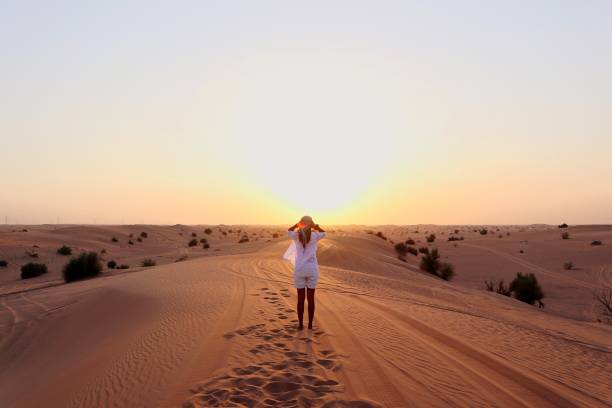human_foot_print: (183, 321, 377, 407)
